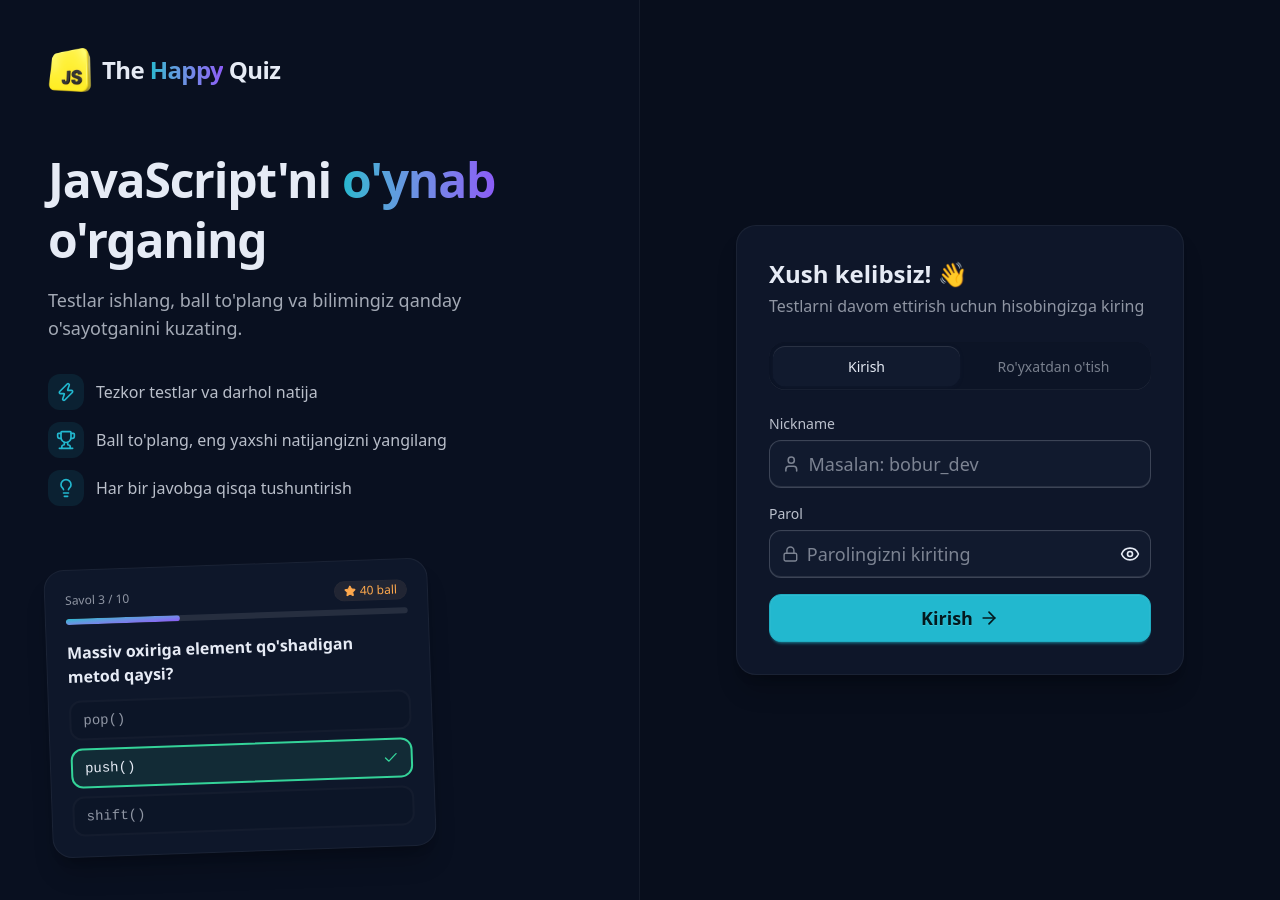
Test case: o'quvchi › login qiladi va testlar ro'yxatini ko'radi
Type "ali" into the field labelled "Nickname".
click(973, 464); type("ali")  # box [808,441,1138,487]
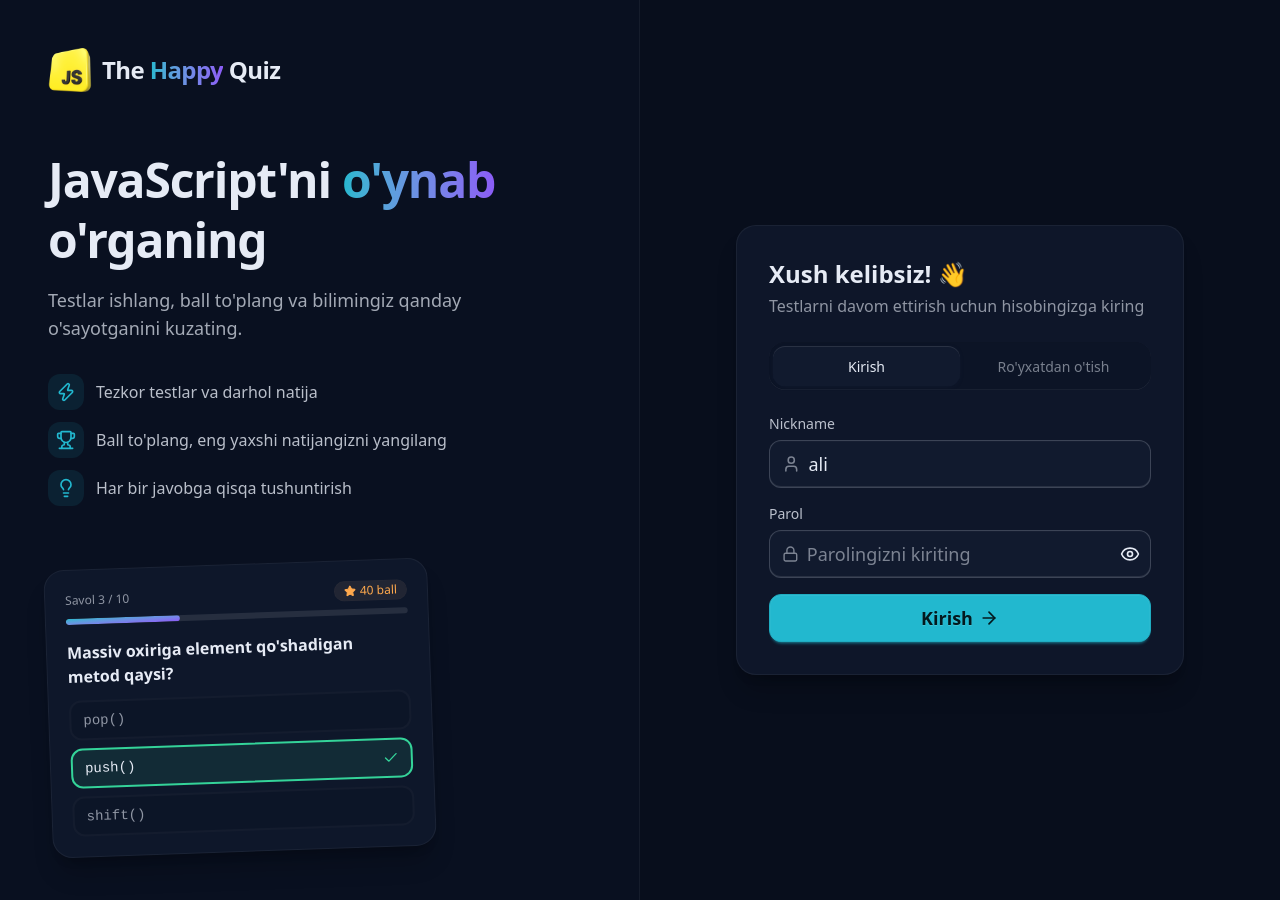
Type "secret123" into the password field labelled "Parol".
click(956, 554); type("secret123")  # box [807,531,1106,577]
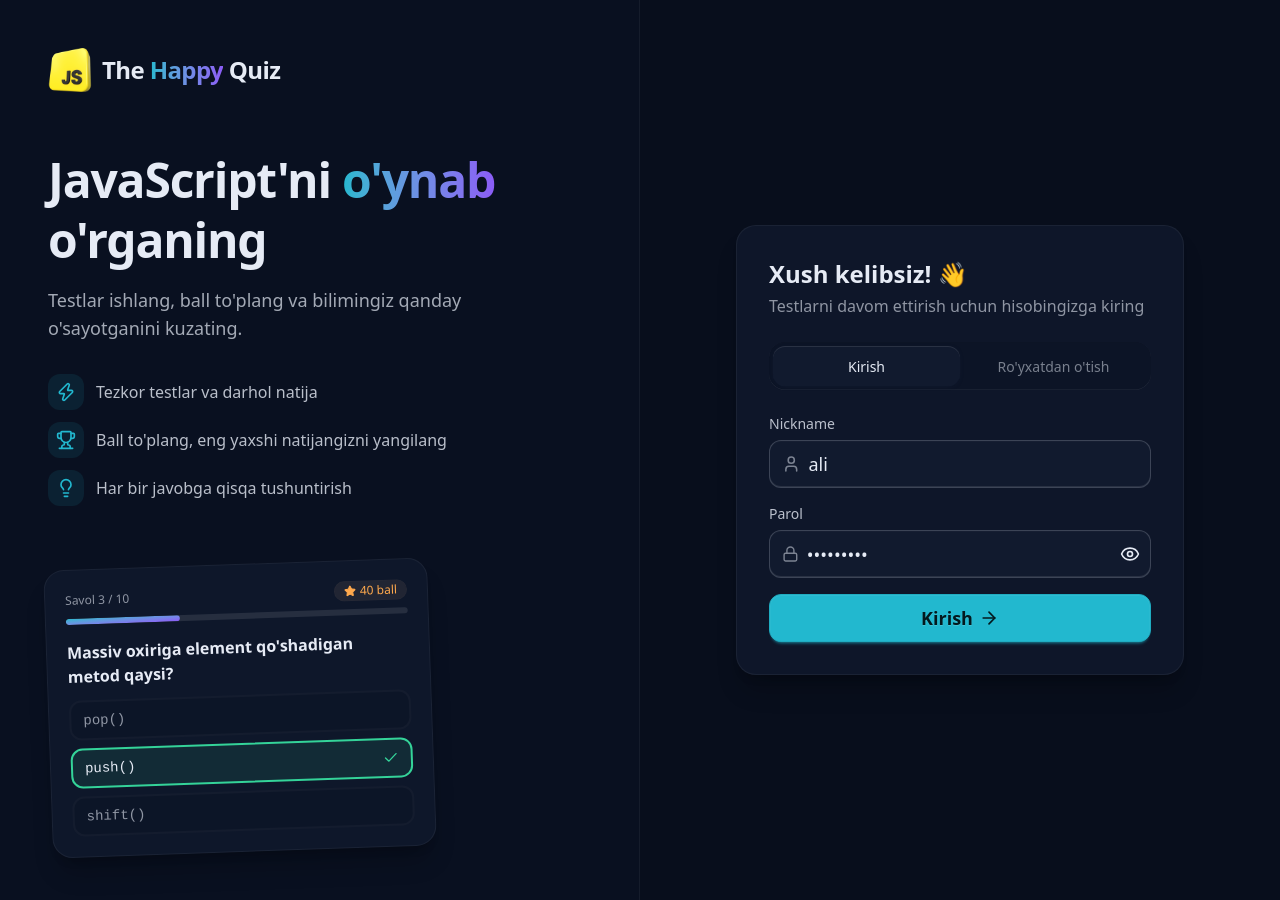
Click the button "Kirish".
click(960, 618)  # box [769,594,1151,642]
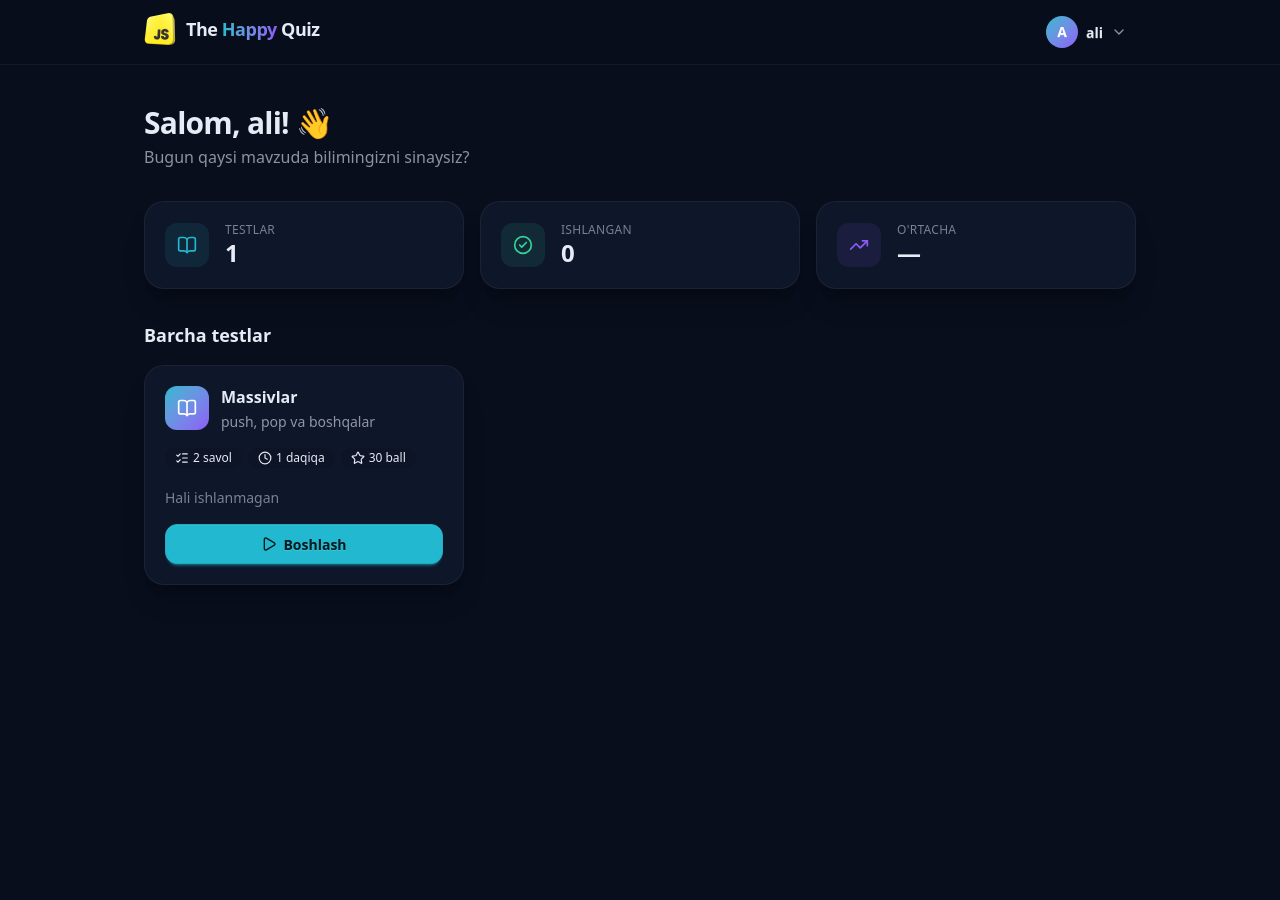
Now the heading "Salom, ali! 👋" is shown, box [144,102,333,143]
Now the heading "Massivlar" is shown, box [221,386,298,408]
